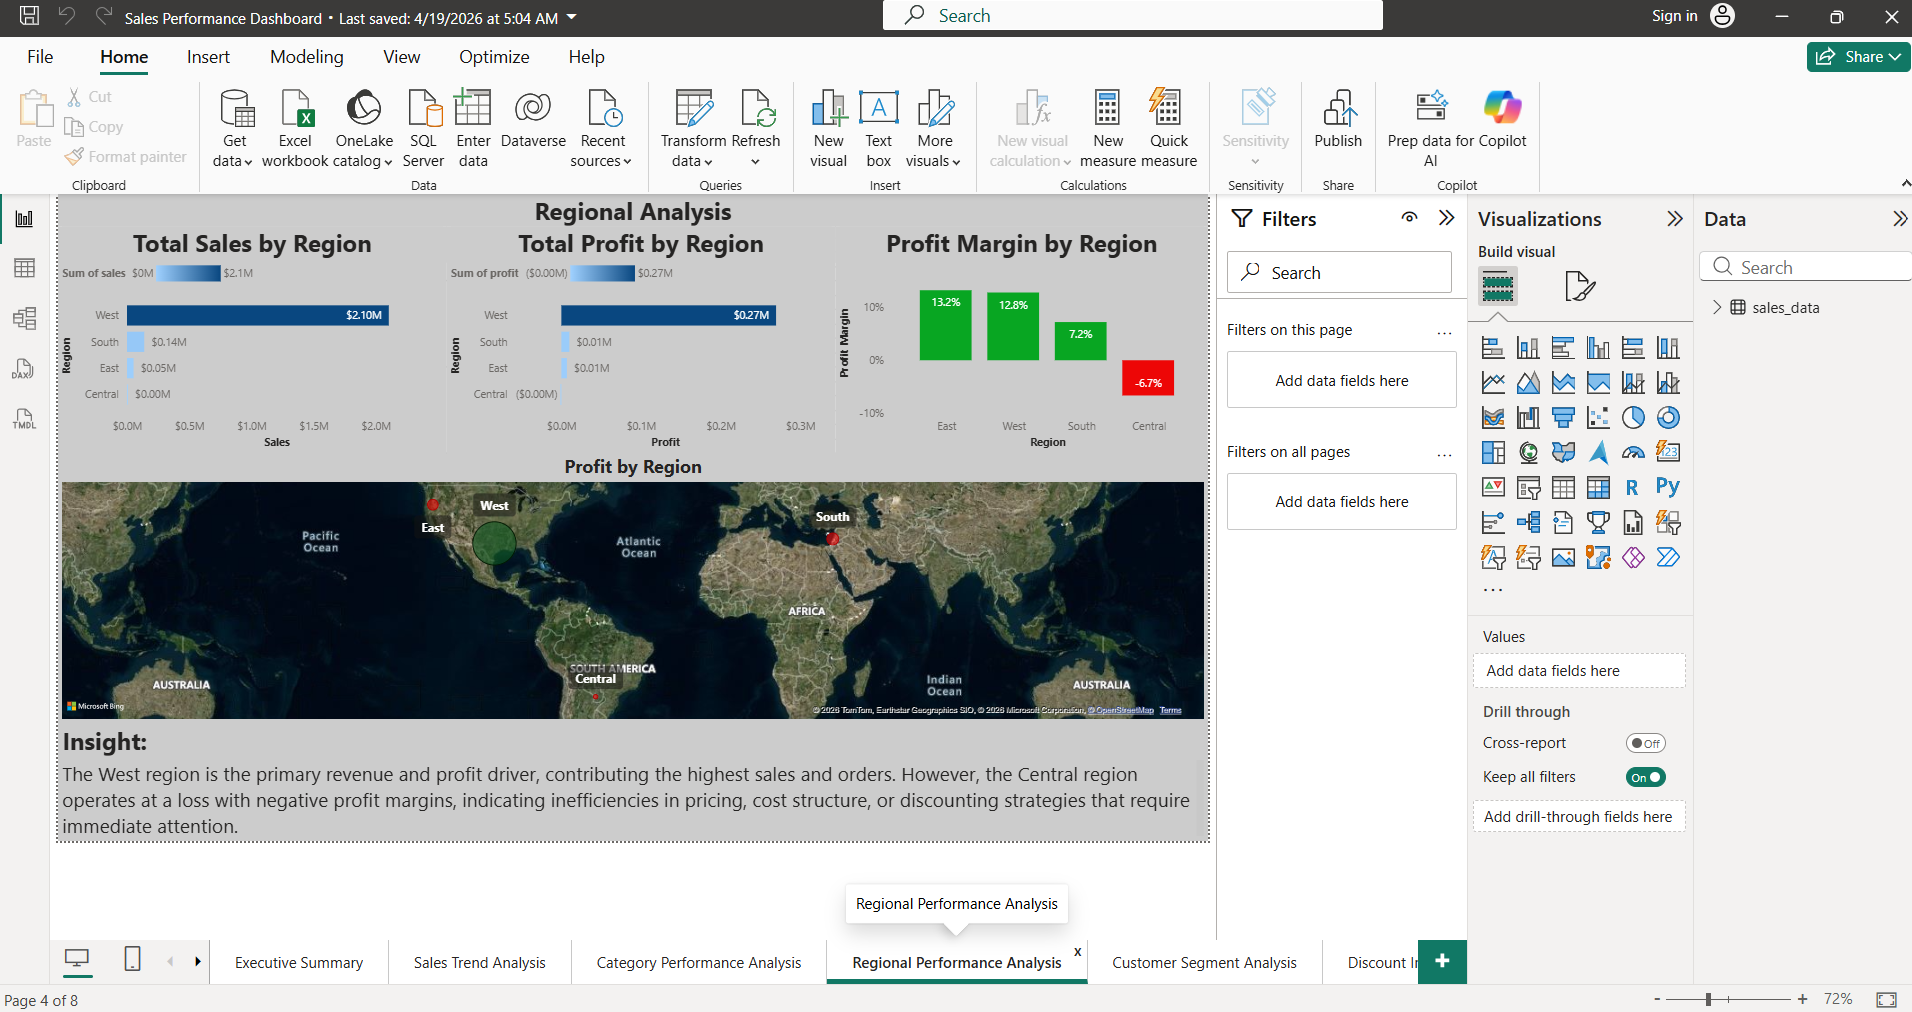

Layout of this report page (visuals, bound fields, positions):
{"tool":"powerbi","page":{"name":"Regional Performance Analysis","canvas":[1280,720],"ordinal":3},"visuals":[{"type":"clusteredBarChart","title":"Total Sales by Region","fields":{"Y":["Sum(sales_data.sales)"],"Category":["sales_data.region"]},"box":[0,36.2,432.7,253.2],"z":0},{"type":"clusteredBarChart","title":"Total Profit by Region","fields":{"Category":["sales_data.region"],"Y":["Sum(sales_data.profit)"]},"box":[432.7,36.2,432.7,253.2],"z":1000},{"type":"clusteredColumnChart","title":"Profit Margin by Region","fields":{"Category":["sales_data.region"],"Y":["sales_data.profit_margin"]},"box":[865.4,36.2,414.6,253.2],"z":2000},{"type":"textbox","title":"Insight:","box":[0,589.9,1280,130.8],"z":3000},{"type":"textbox","title":"Regional Analysis","box":[0,0,1280,36.2],"z":4000},{"type":"map","title":"Profit by Region","fields":{"Size":["Sum(sales_data.profit)"],"Category":["sales_data.region"]},"box":[0,289.4,1280,300.5],"z":5000}]}

Visuals, with their boxes on the page's 1280x720 design canvas (x1, y1, x2, y2). These are canvas units, not pixel positions in the 1912x1012 screenshot, which may show the page scaled, cropped or inside an application window:
"Total Sales by Region" clusteredBarChart: [0, 36, 433, 289]
"Total Profit by Region" clusteredBarChart: [433, 36, 865, 289]
"Profit Margin by Region" clusteredColumnChart: [865, 36, 1280, 289]
"Insight:" textbox: [0, 590, 1280, 721]
"Regional Analysis" textbox: [0, 0, 1280, 36]
"Profit by Region" map: [0, 289, 1280, 590]
